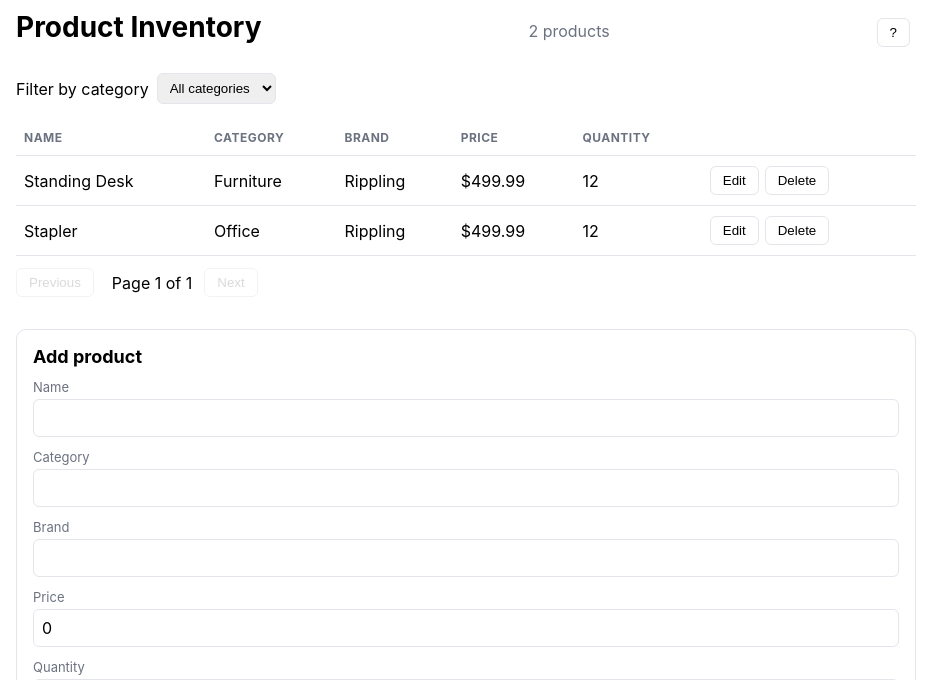
it: ProductsPage › clears a category filter when its last product is deleted
Expected: the text "Stapler" is shown, x1=16 y1=206 x2=206 y2=256
Step 1. Select "Office" in the dropdown labelled "Filter by category" → coordinates (216, 88), box x1=157 y1=73 x2=276 y2=104
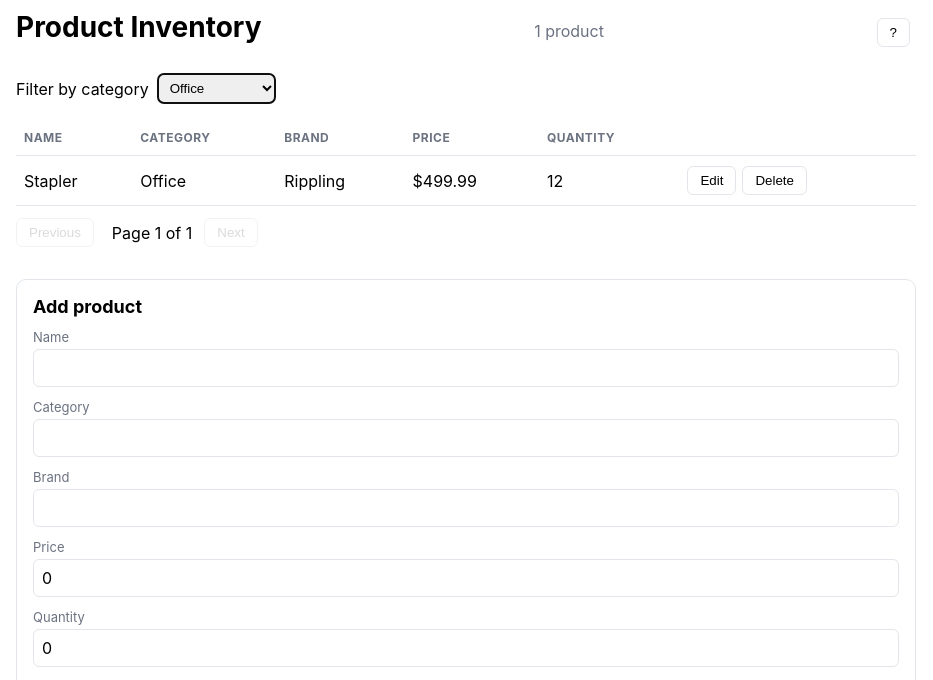
Expected: the text "1 product" is shown, x1=534 y1=21 x2=604 y2=41
Step 2. Click the button "Delete" → coordinates (775, 180), box x1=742 y1=166 x2=807 y2=195
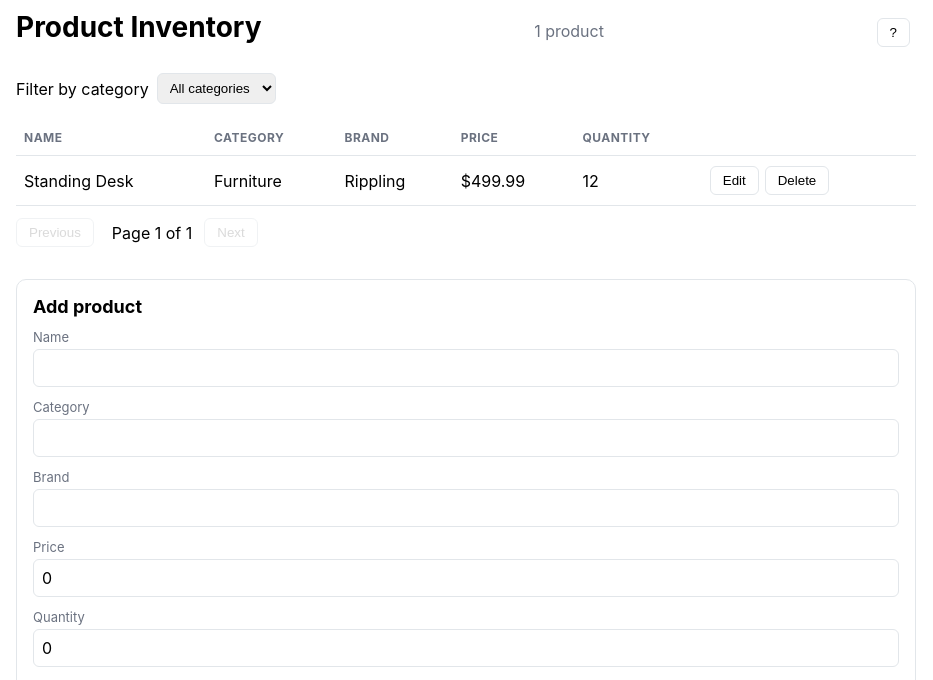
Expected: the text "Standing Desk" is shown, x1=16 y1=156 x2=206 y2=206
